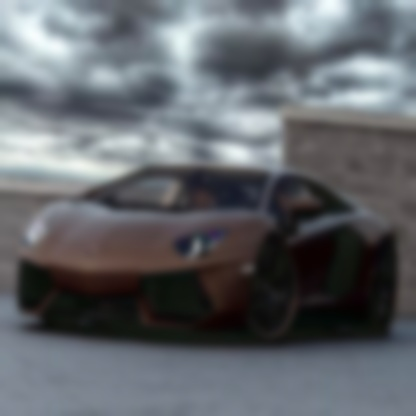Vehicle: (13, 159, 406, 348)
